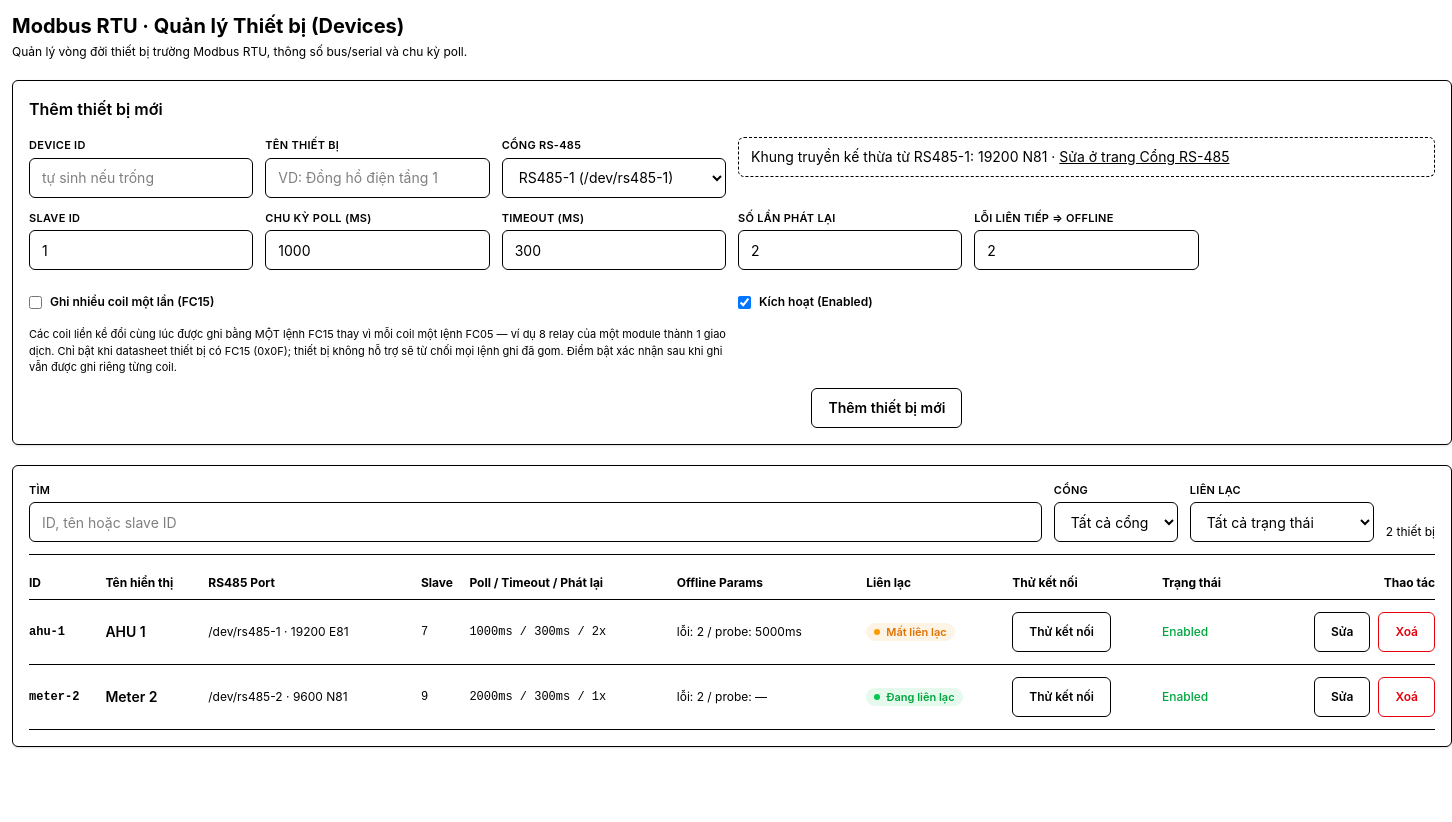
it: DevicesPage › lọc theo cổng RS-485
Expected: the text "ahu-1" is shown, [29,600,105,664]
Select "RS485-2" in the dropdown named "Lọc theo cổng" at coordinates (1116, 522), box [1054,502,1178,542]
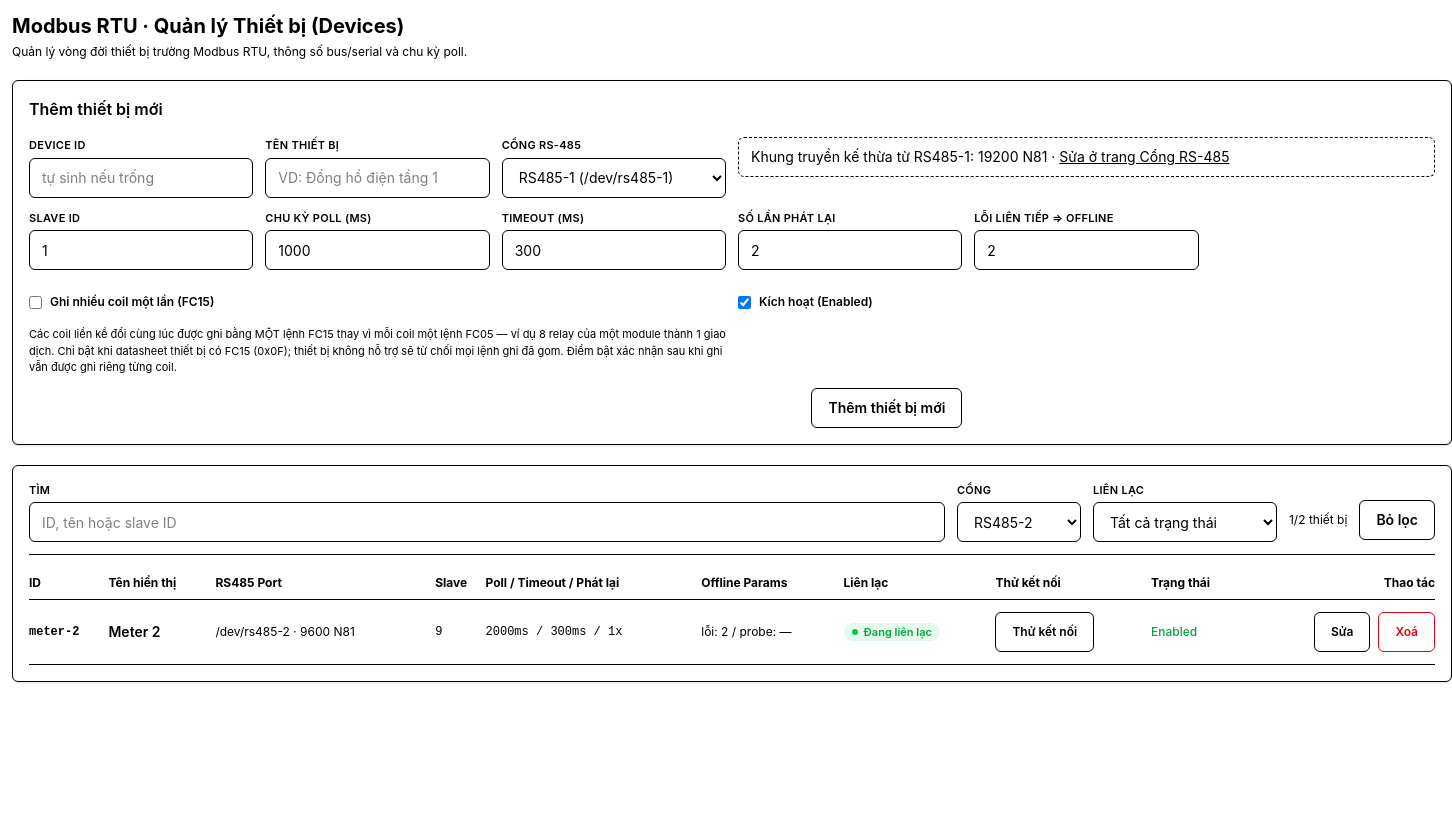
Expected: the text "meter-2" is shown, [29,600,108,664]
Now the text "ahu-1" is gone
